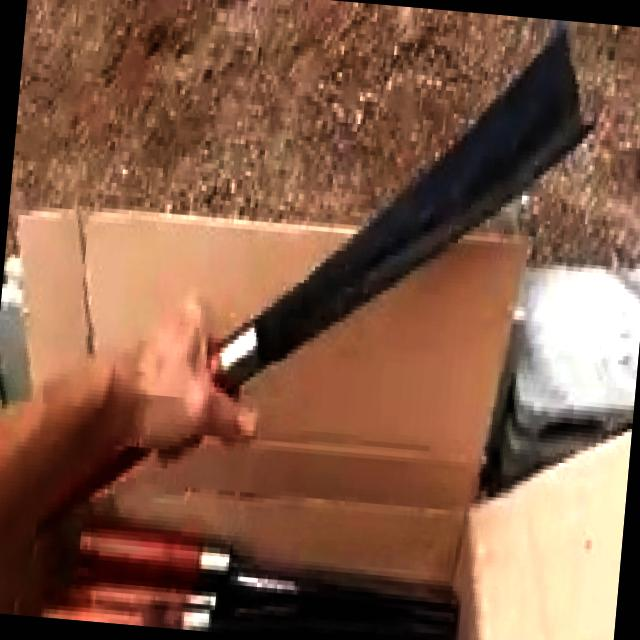eto: (34, 29, 586, 526)
